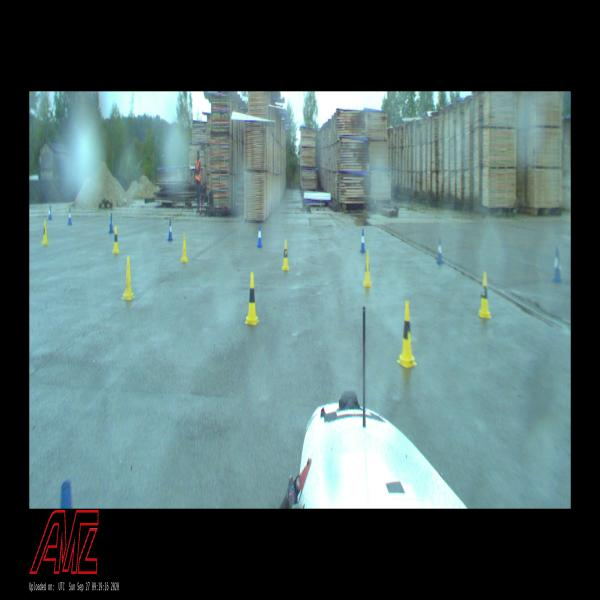blue_cone: (552, 246, 562, 282), (436, 238, 444, 265), (360, 230, 366, 252), (257, 225, 262, 248), (168, 220, 173, 241), (109, 214, 113, 233), (68, 207, 72, 225), (48, 205, 52, 220)
yellow_cone: (397, 301, 418, 368), (244, 272, 260, 325), (478, 272, 491, 318), (122, 256, 135, 300), (363, 251, 372, 286), (282, 240, 289, 271), (112, 226, 120, 253), (181, 233, 188, 262), (42, 220, 48, 245)
